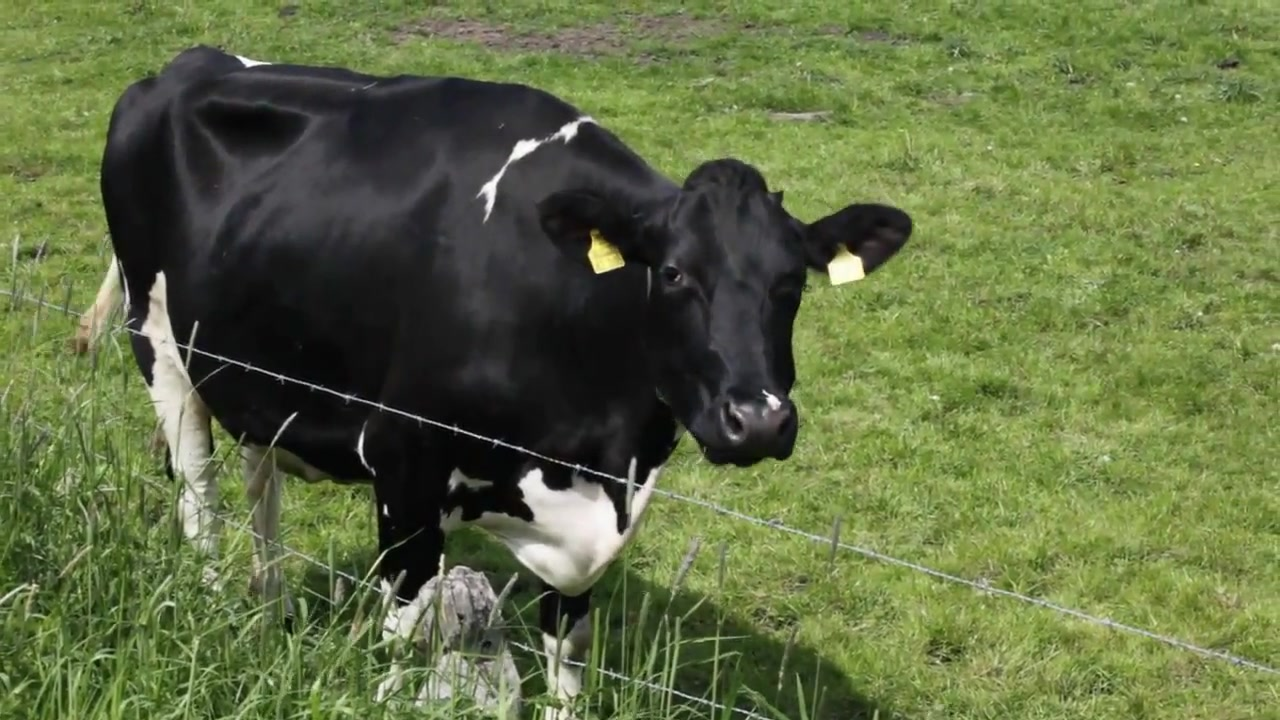cow: (72, 38, 918, 720)
